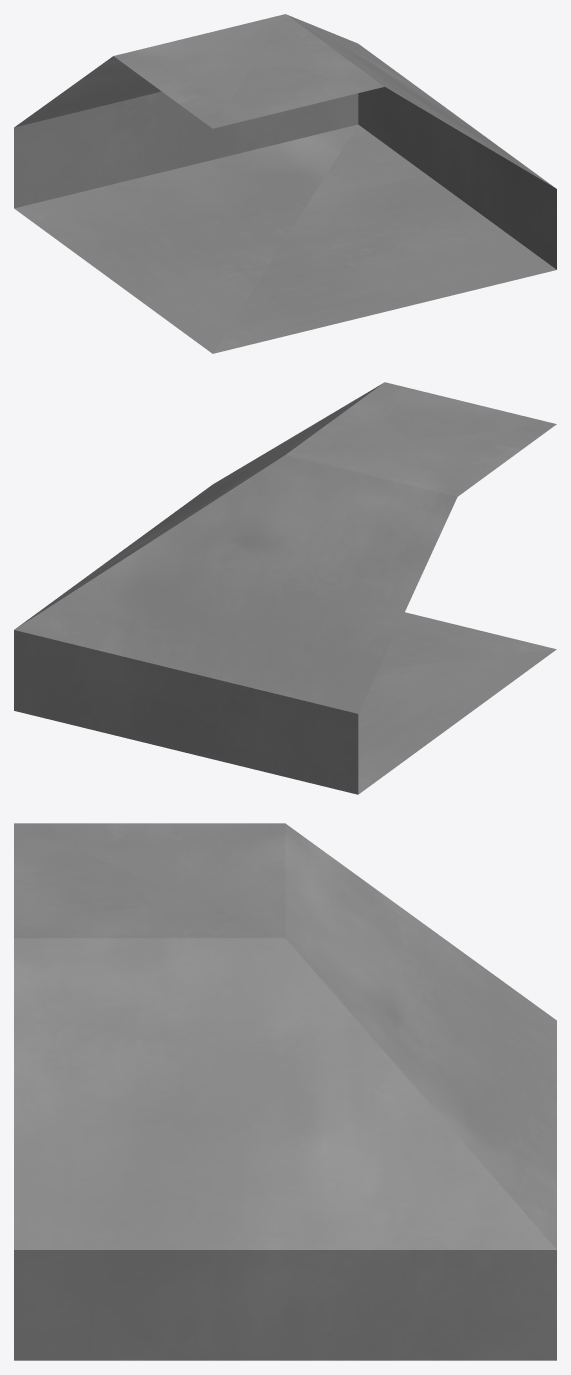
Rendered from Corner_Viga_Horizontal_Bar_A.fbx.
3 renders of one model, top to bottom at view 1: azimuth 30°, elevation 25°; view 2: azimuth 150°, elevation 25°; view 3: azimuth 270°, elevation 25°, orthographic. The views are drawn at different scales.
Parts seen in each view (by area): view 1: Cube.077; view 2: Cube.077; view 3: Cube.077.
Part boxes in pixels (x1=…): Cube.077: x1=14, y1=14, x2=556, y2=353; Cube.077: x1=14, y1=382, x2=556, y2=794; Cube.077: x1=14, y1=823, x2=556, y2=1360.
Size of the model in its own units: 40 by 25 by 40.
